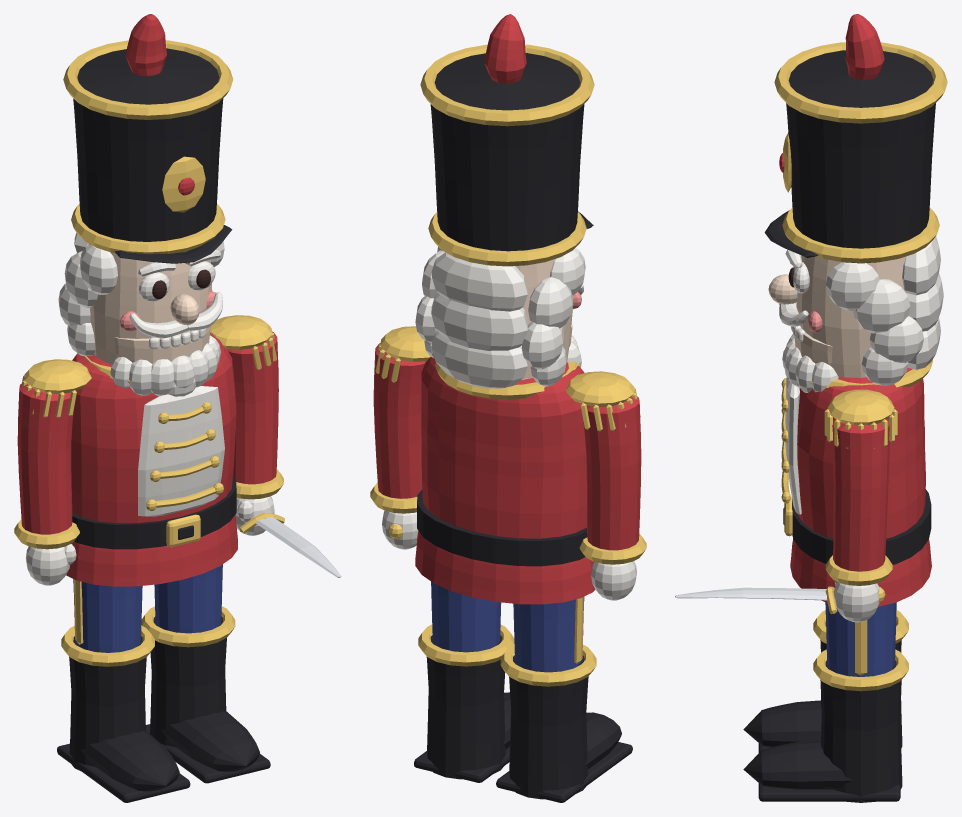
File: Cascanueces.glb
3 renders of one model, left to right at view 1: azimuth 30°, elevation 25°; view 2: azimuth 150°, elevation 25°; view 3: azimuth 270°, elevation 25°, orthographic. The views are drawn at different scales.
Parts seen in each view (by area): view 1: Cas_Cabeza, Cas_Cuerpo, Cas_PiernaL, Cas_PiernaR, Cas_BrazoL, Cas_BrazoR, Cas_Mandibula; view 2: Cas_Cabeza, Cas_Cuerpo, Cas_PiernaL, Cas_PiernaR, Cas_BrazoL, Cas_BrazoR; view 3: Cas_Cabeza, Cas_Cuerpo, Cas_PiernaR, Cas_BrazoR, Cas_PiernaL, Cas_Mandibula.
Boxes of the visible parts, x1=… form: Cas_Cabeza: x1=58, y1=14, x2=233, y2=364; Cas_Cuerpo: x1=18, y1=315, x2=276, y2=586; Cas_PiernaL: x1=57, y1=579, x2=190, y2=802; Cas_PiernaR: x1=141, y1=564, x2=270, y2=783; Cas_BrazoL: x1=14, y1=383, x2=79, y2=585; Cas_BrazoR: x1=227, y1=331, x2=341, y2=577; Cas_Mandibula: x1=110, y1=326, x2=220, y2=396; Cas_Cabeza: x1=415, y1=14, x2=594, y2=388; Cas_Cuerpo: x1=374, y1=326, x2=640, y2=604; Cas_PiernaL: x1=496, y1=597, x2=632, y2=802; Cas_PiernaR: x1=414, y1=581, x2=514, y2=782; Cas_BrazoL: x1=579, y1=396, x2=646, y2=600; Cas_BrazoR: x1=370, y1=343, x2=425, y2=549; Cas_Cabeza: x1=764, y1=14, x2=947, y2=385; Cas_Cuerpo: x1=781, y1=360, x2=932, y2=606; Cas_PiernaR: x1=743, y1=602, x2=908, y2=802; Cas_BrazoR: x1=675, y1=419, x2=892, y2=622; Cas_PiernaL: x1=743, y1=610, x2=908, y2=752; Cas_Mandibula: x1=782, y1=325, x2=838, y2=392.
Size of the model in its own units: 0.782 by 2.12 by 0.6918.
